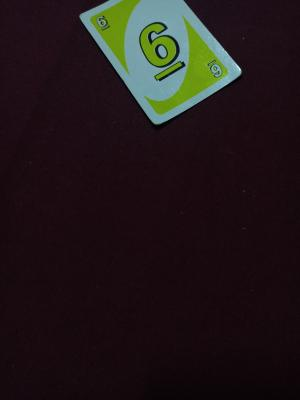num_6: (135, 6, 187, 89)
yellow: (95, 4, 122, 46)
